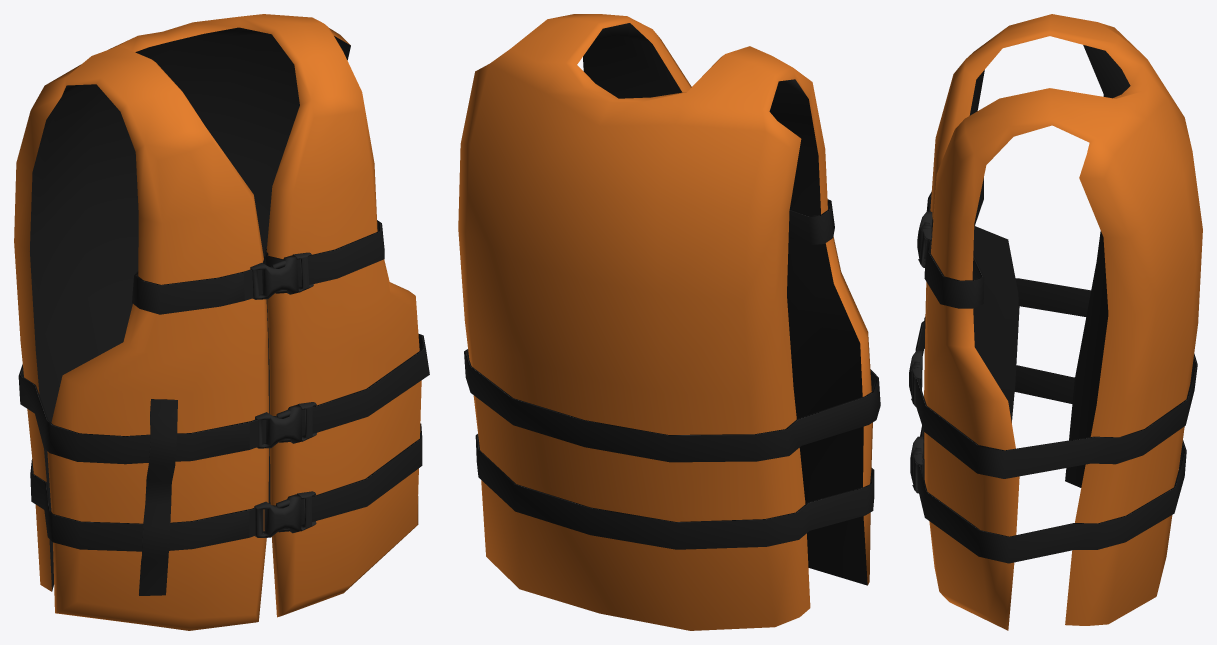
The model's file is Prop_04_Chaleco.fbx.
3 renders of one model, left to right at view 1: azimuth 30°, elevation 25°; view 2: azimuth 150°, elevation 25°; view 3: azimuth 270°, elevation 25°, orthographic. The views are drawn at different scales.
Visible parts, largest first — view 1: LifeJacket; view 2: LifeJacket; view 3: LifeJacket.
Boxes of the visible parts, box(x1,y1,x2,y2) form: LifeJacket: box(14, 14, 429, 630); LifeJacket: box(458, 14, 880, 630); LifeJacket: box(909, 14, 1202, 630).
Bounding box in the file's own units: 14.73 × 20.03 × 10.38.
